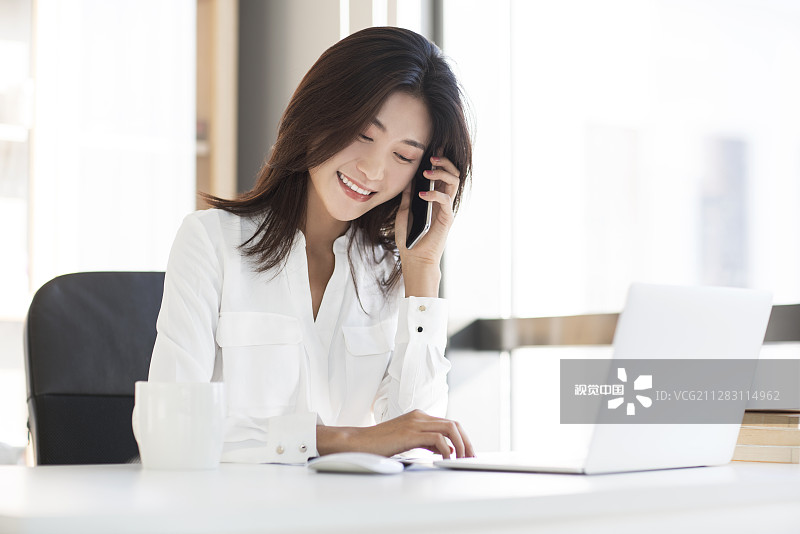calling: (377, 126, 492, 289)
no-phone: (315, 392, 483, 480)
